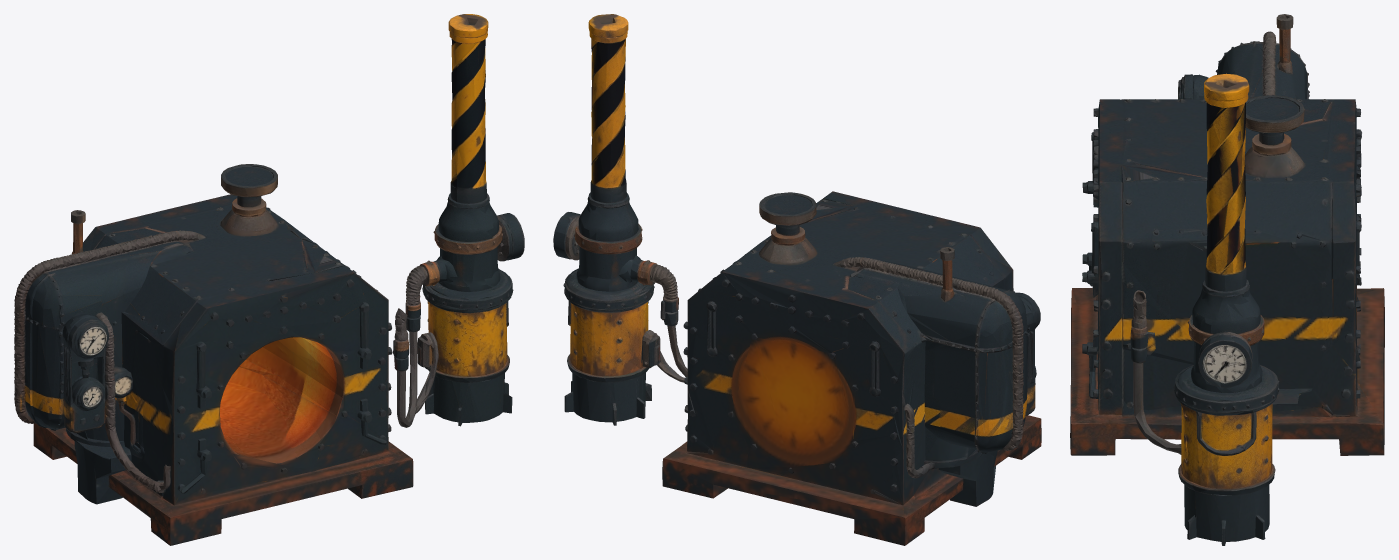
Rendered from smelter.glb.
The picture shows the model from 3 angles, left to right: view 1: azimuth 30°, elevation 25°; view 2: azimuth 150°, elevation 25°; view 3: azimuth 270°, elevation 25°; orthographic projection. The views are drawn at different scales.
Parts seen in each view (by area): view 1: Mesh_0; view 2: Mesh_0; view 3: Mesh_0.
Boxes of the visible parts, x1,y1,x2,y2 form: Mesh_0: (14, 14, 524, 545); Mesh_0: (553, 14, 1041, 545); Mesh_0: (1070, 14, 1384, 545).
Size of the model in its own units: 1.9 by 1.47 by 0.945.
Materials: 1 (1 with a texture image).
